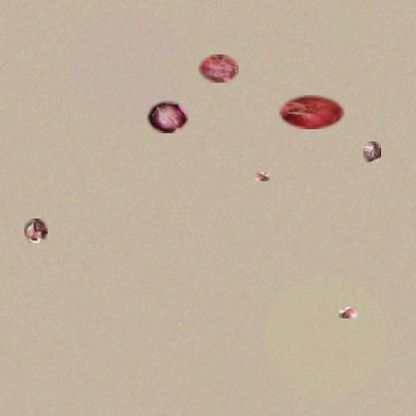healthy: (279, 95, 344, 129), (147, 101, 188, 133)
rotten: (198, 54, 239, 83), (24, 219, 48, 243), (363, 141, 381, 162)
sprouted: (339, 307, 358, 318), (254, 172, 270, 181)
